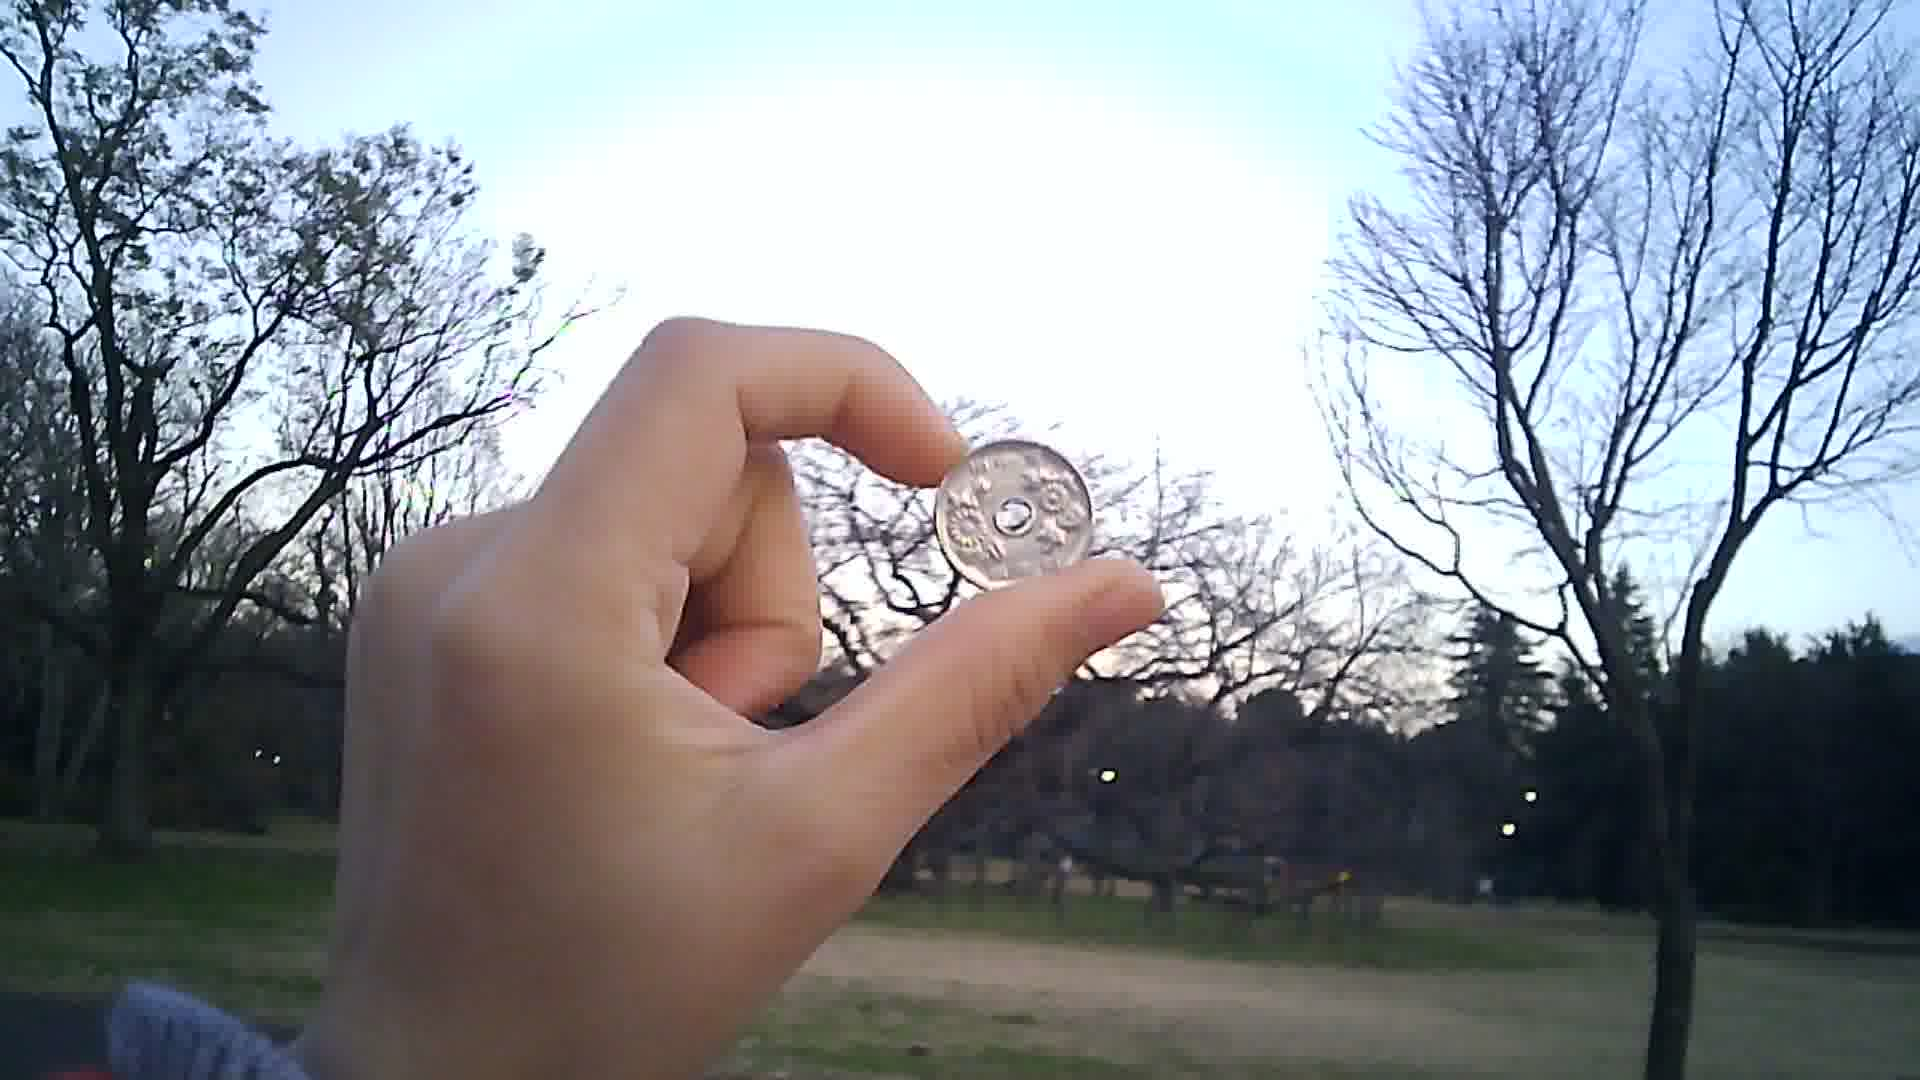50 Yen: (926, 433, 1104, 591)
